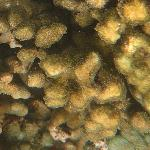dead: (2, 5, 141, 144)
